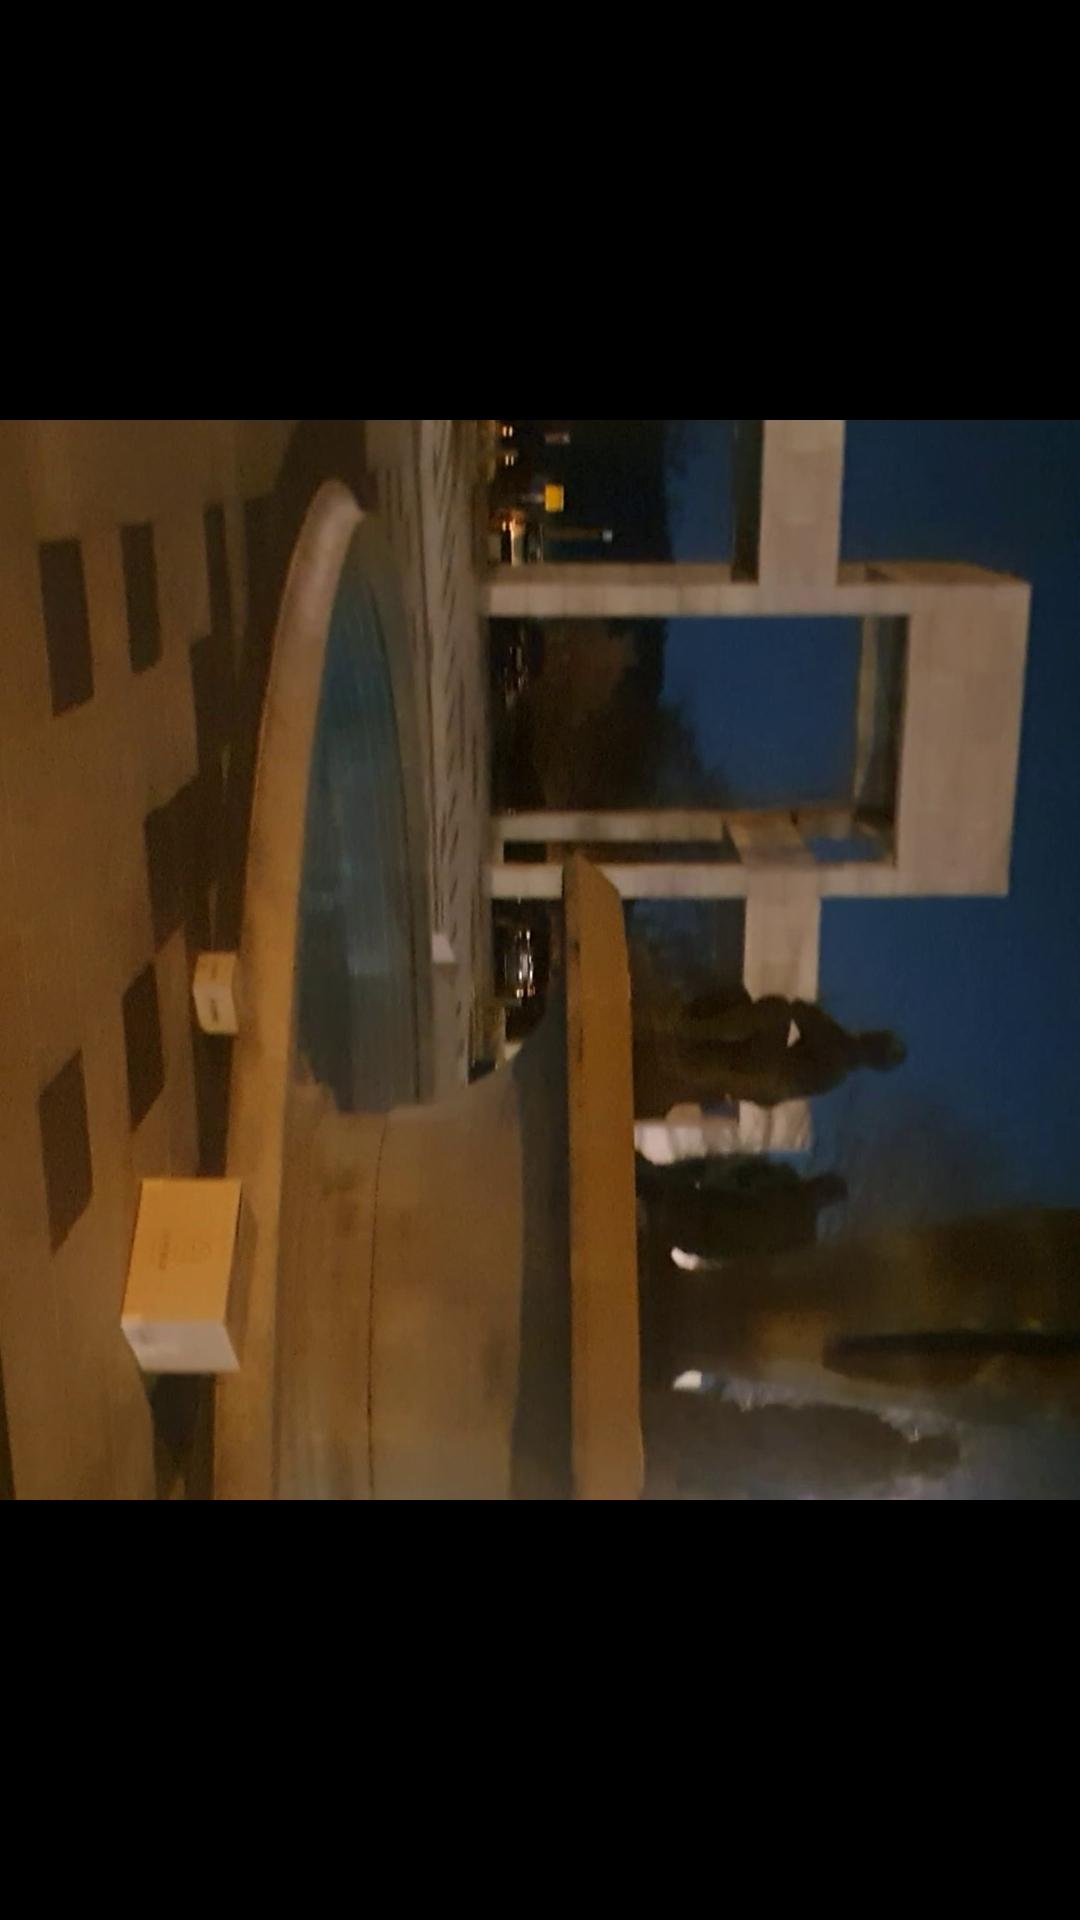Box: (109, 1160, 270, 1385), (185, 923, 262, 1047)
